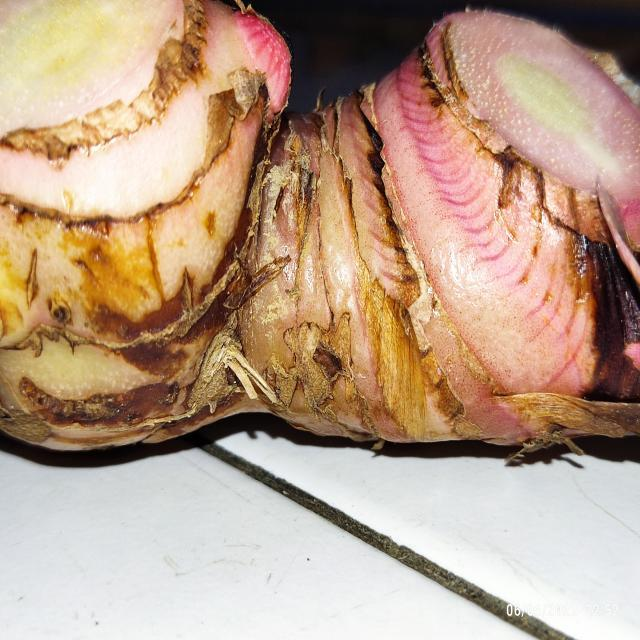ginger: (1, 0, 640, 458)
